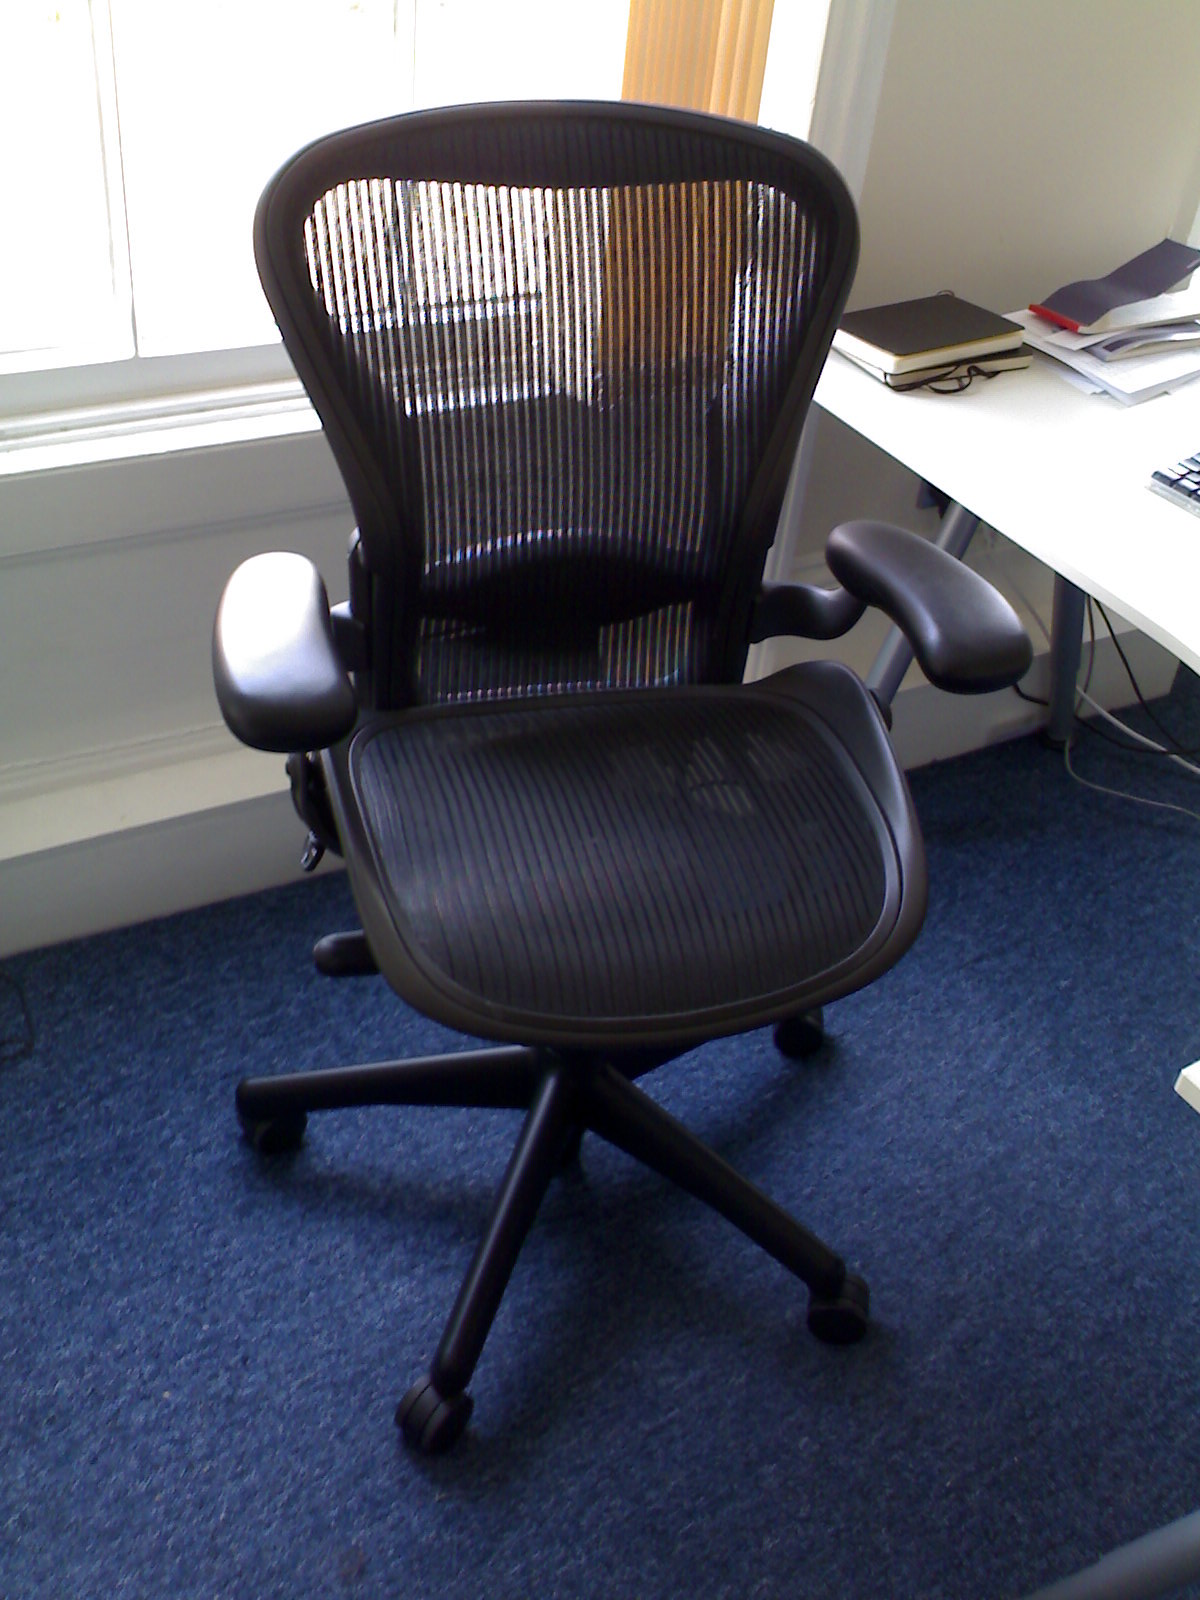chair: (115, 98, 1034, 1465)
